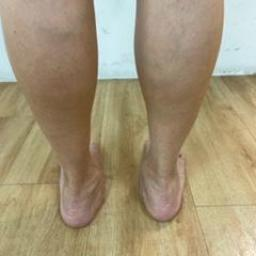Back View -Both Feet-: (34, 120, 219, 232)
